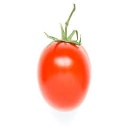tomato: (37, 39, 92, 110)
